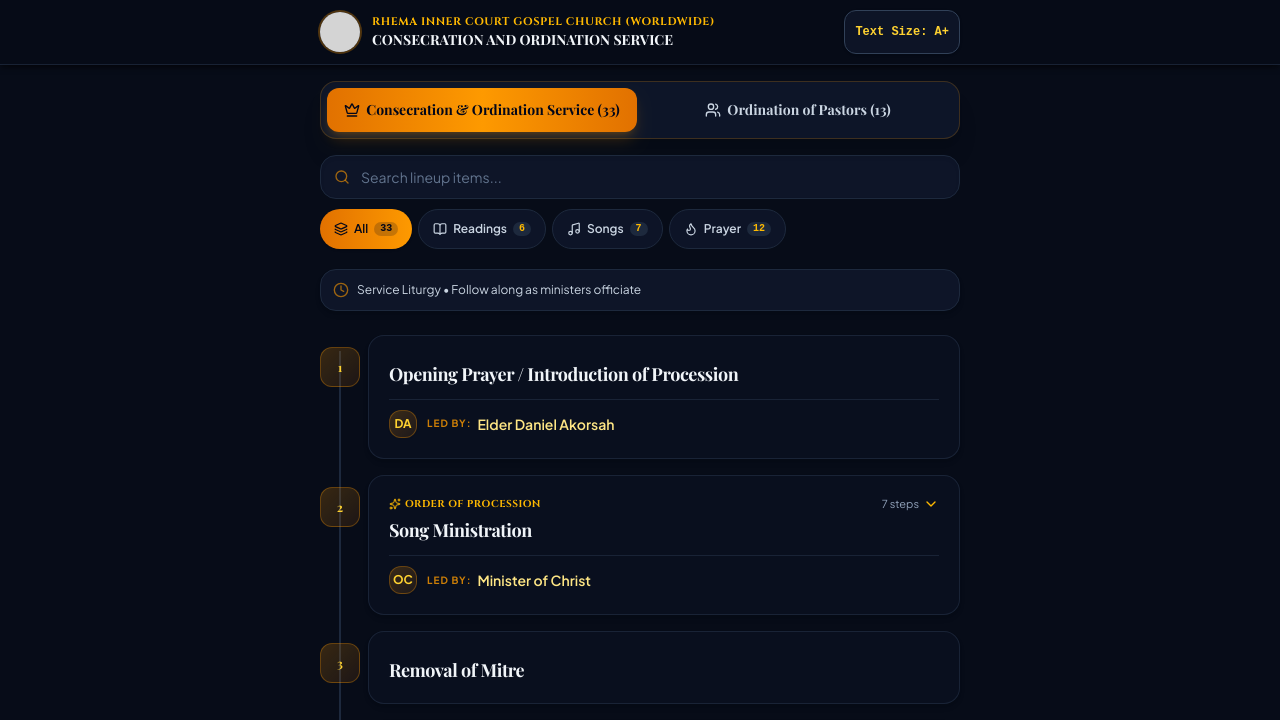
Scenario: ConsecrationProgram Page Component (Verbatim Document Lineup) › allows toggling text size zoom for reading comfort in church
Click the button with aria-label "Toggle text size" at (902, 32), box x1=844 y1=10 x2=960 y2=54
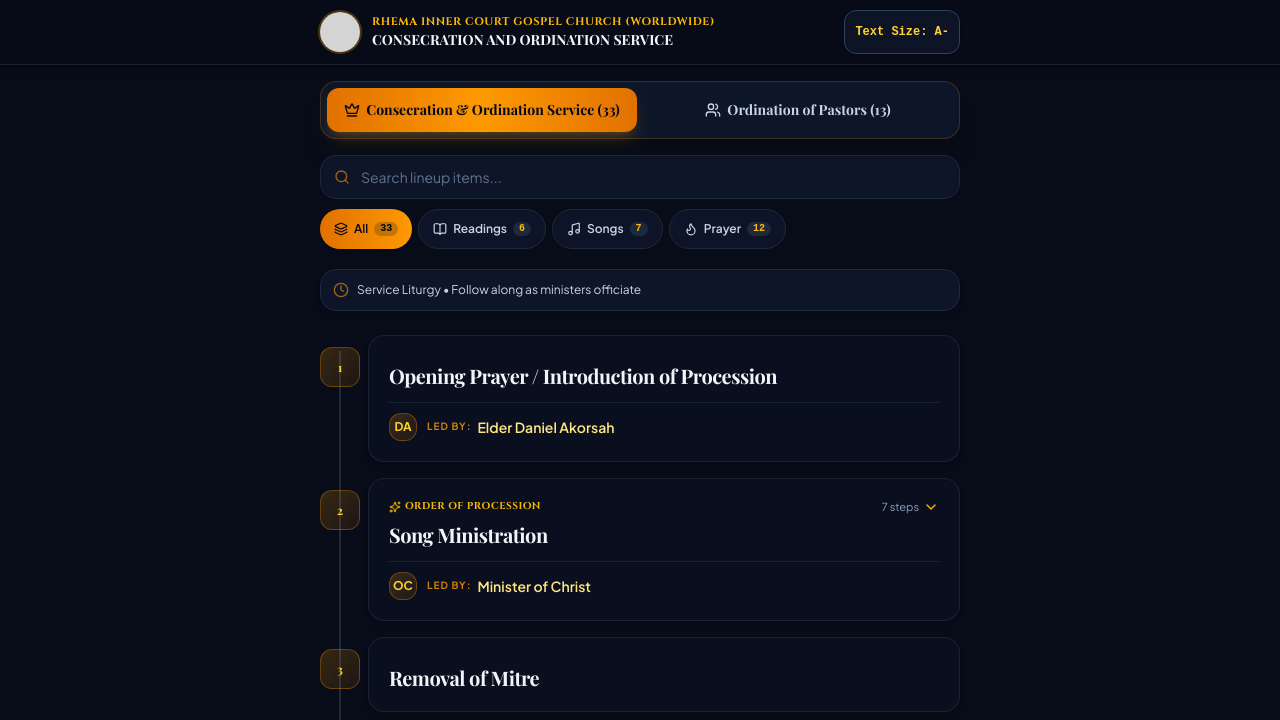
Now the button with aria-label "Toggle text size" reads "Text Size: A-", box x1=844 y1=10 x2=960 y2=54
